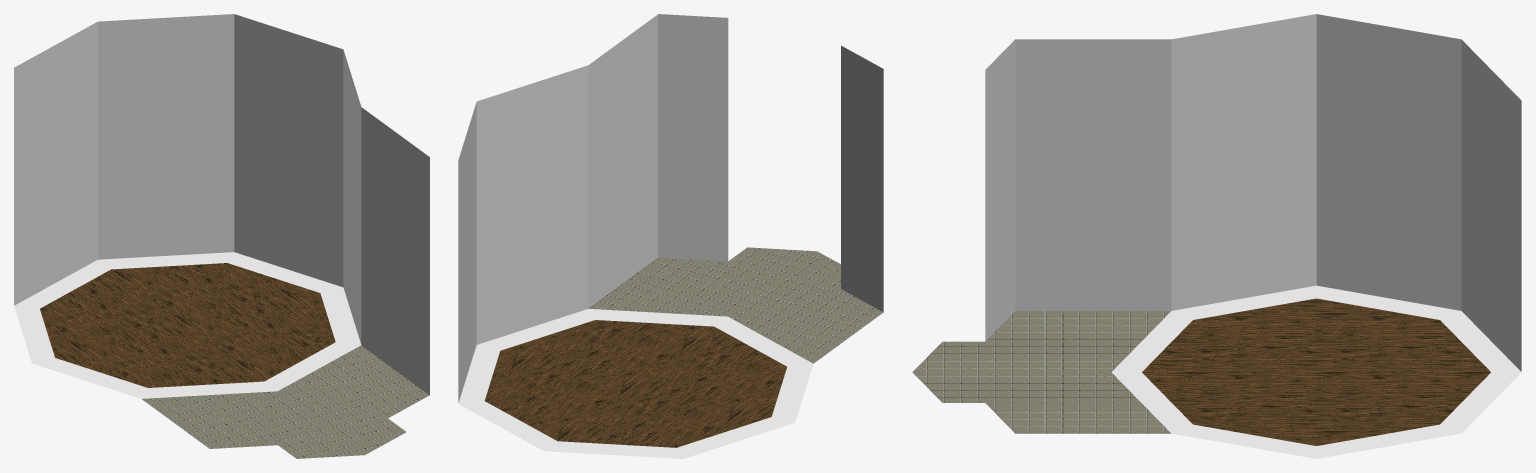
Rendered from training03interiorA.glb.
3 renders of one model, left to right at view 1: azimuth 30°, elevation 25°; view 2: azimuth 150°, elevation 25°; view 3: azimuth 270°, elevation 25°, orthographic. The views are drawn at different scales.
Visible parts, largest first — view 1: Circle; view 2: Circle; view 3: Circle.
Part boxes in pixels (left/top/right/bottom): Circle: left=14, top=14, right=429, bottom=458; Circle: left=458, top=14, right=883, bottom=458; Circle: left=912, top=14, right=1521, bottom=458.
Bounding box in the file's own units: 2 × 1.46 × 2.97.
Materials: 4 (2 with a texture image).
